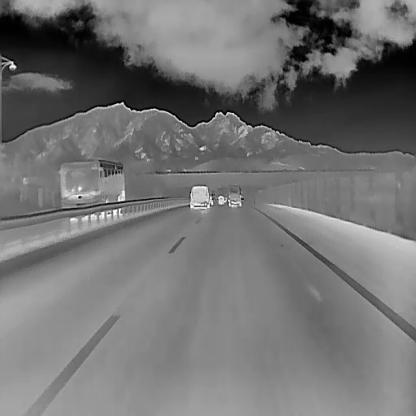bus: (57, 158, 124, 221)
car: (188, 184, 210, 209), (227, 181, 241, 209), (207, 194, 214, 205)
truck: (216, 194, 225, 206)
